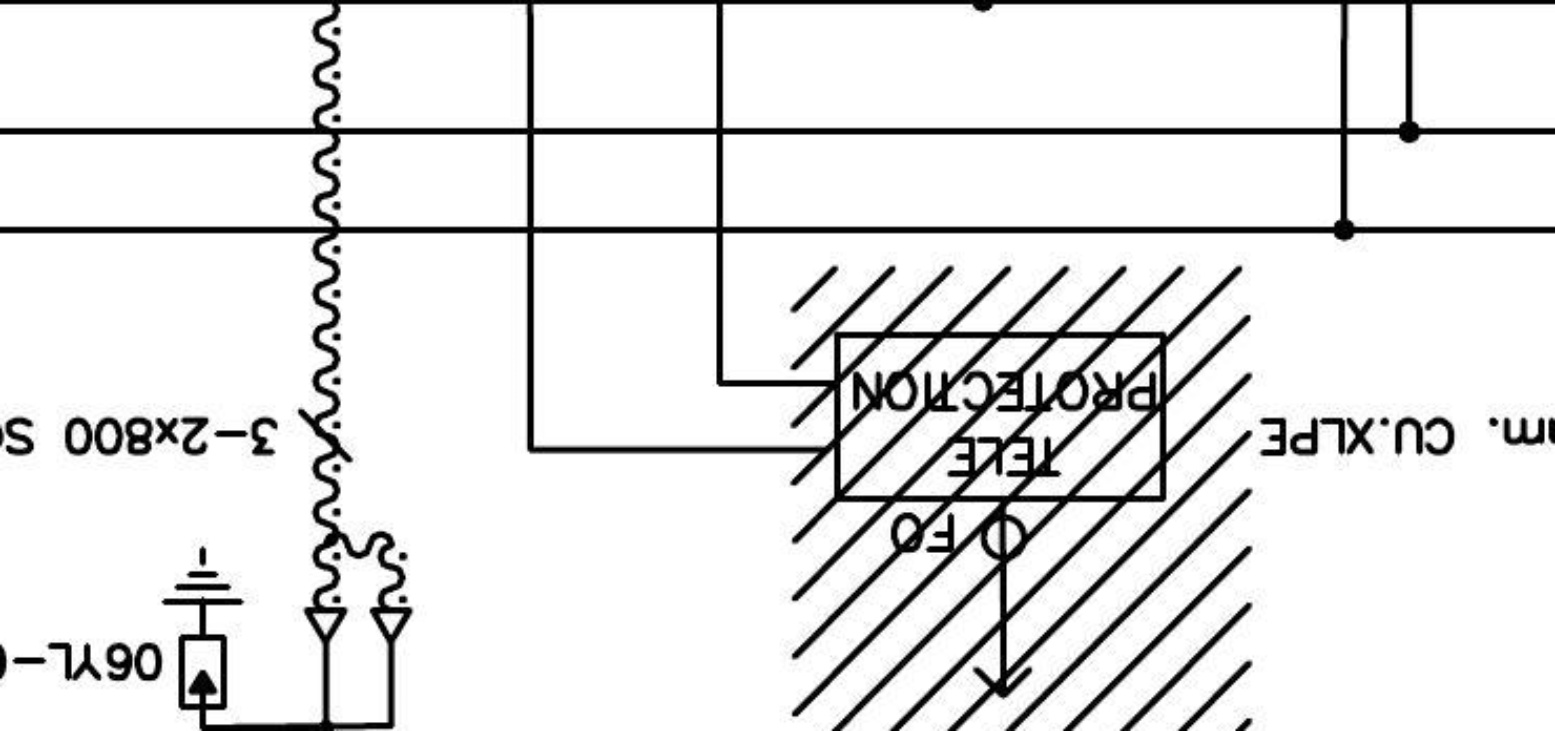115_la: (160, 544, 245, 713)
tele_protection: (829, 326, 1172, 507)
